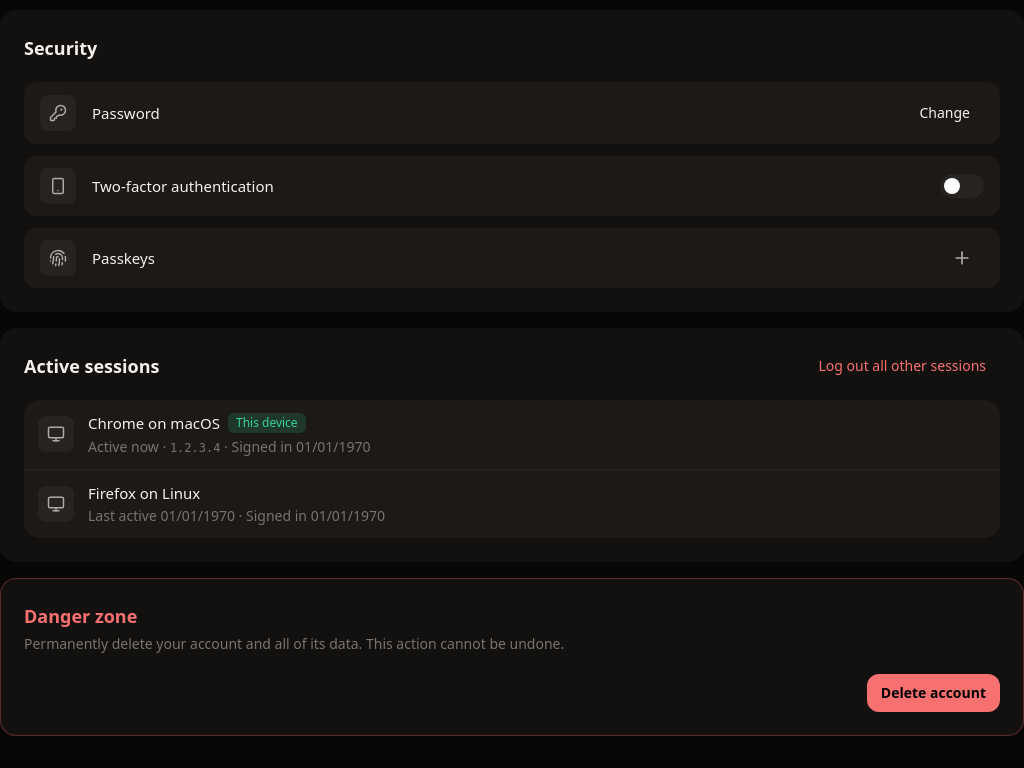
SettingsAccount delete account › asks for the password before deleting
(page scrolled)
Click the button "Delete account" at (933, 693), box [867,674,1000,712]
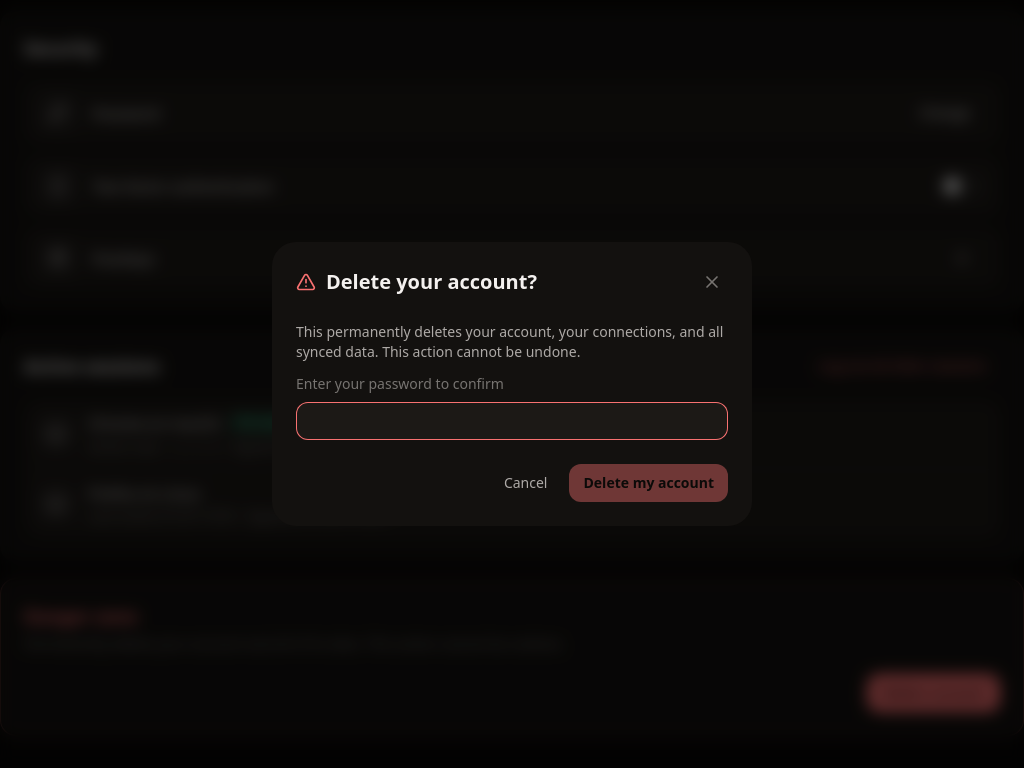
Expected: the button "Delete my account" is disabled, [570,464,728,502]
Type "hunter22" into the password field labelled "Enter your password to confirm" at (512, 421), box [296,402,728,440]
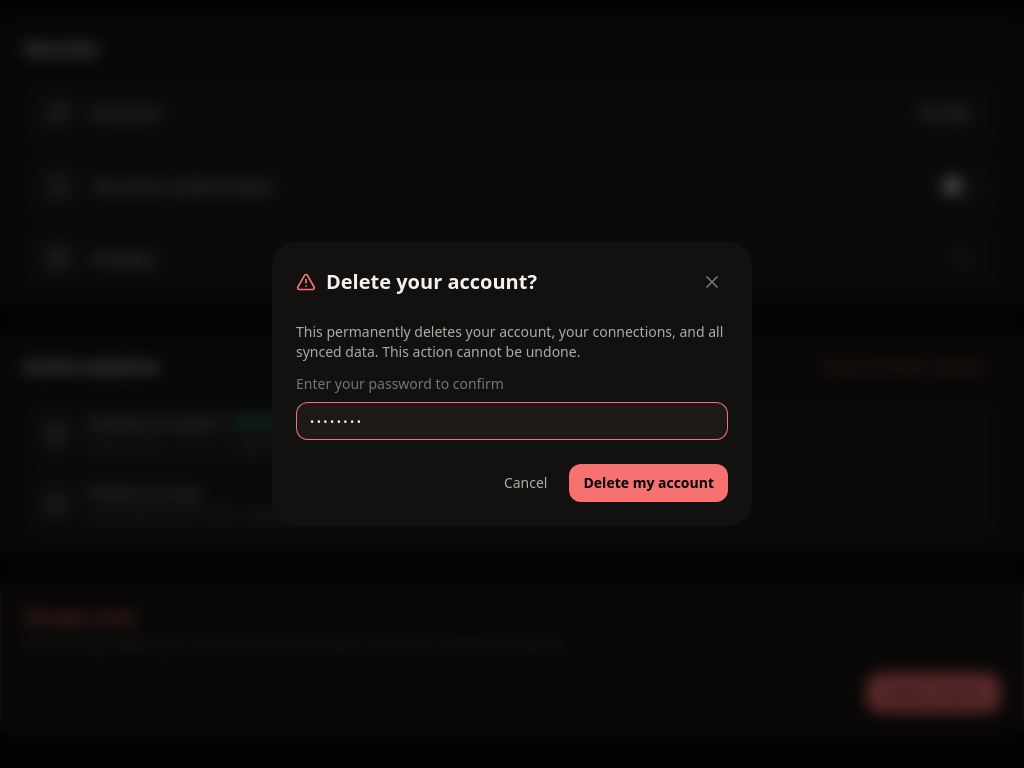
Expected: the button "Delete my account" is enabled, [570,464,728,502]
